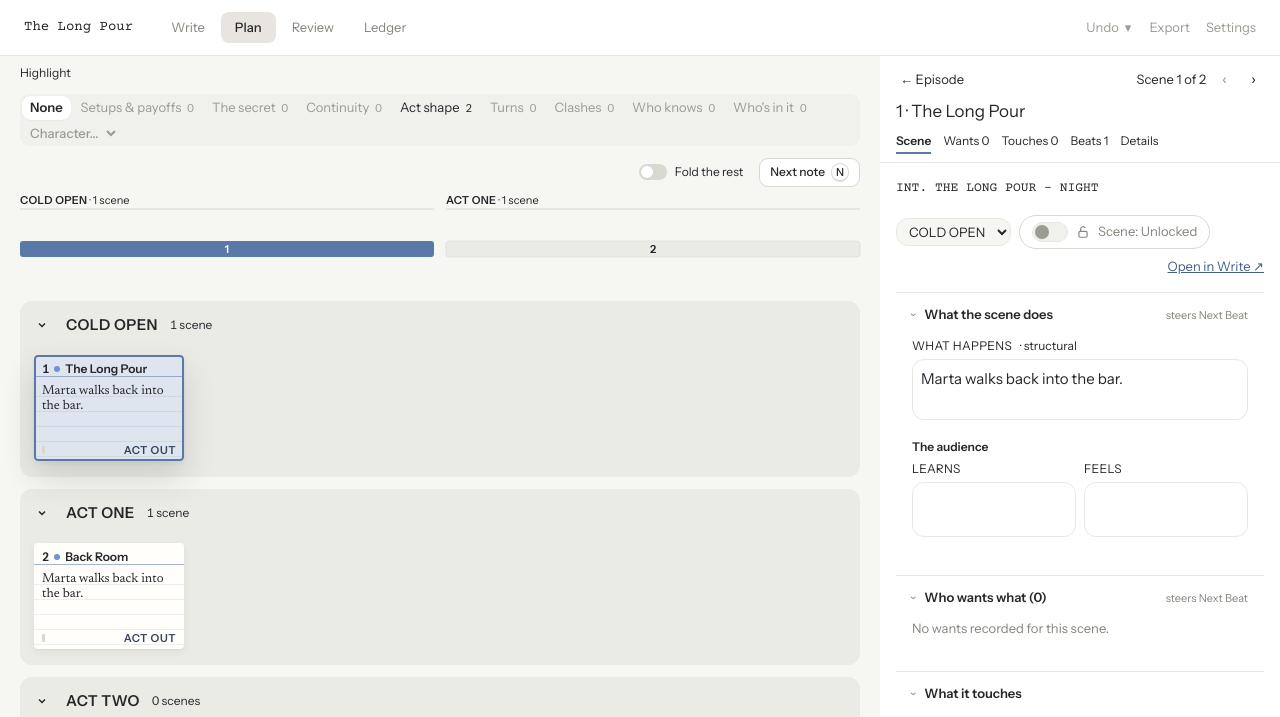
Test: PlanScreen › selecting a scene in a collapsed act opens that act
The width and height of the screenshot is (1280, 717).
Click the button named "Hide ACT ONE": (42, 513) [30,501,54,525]
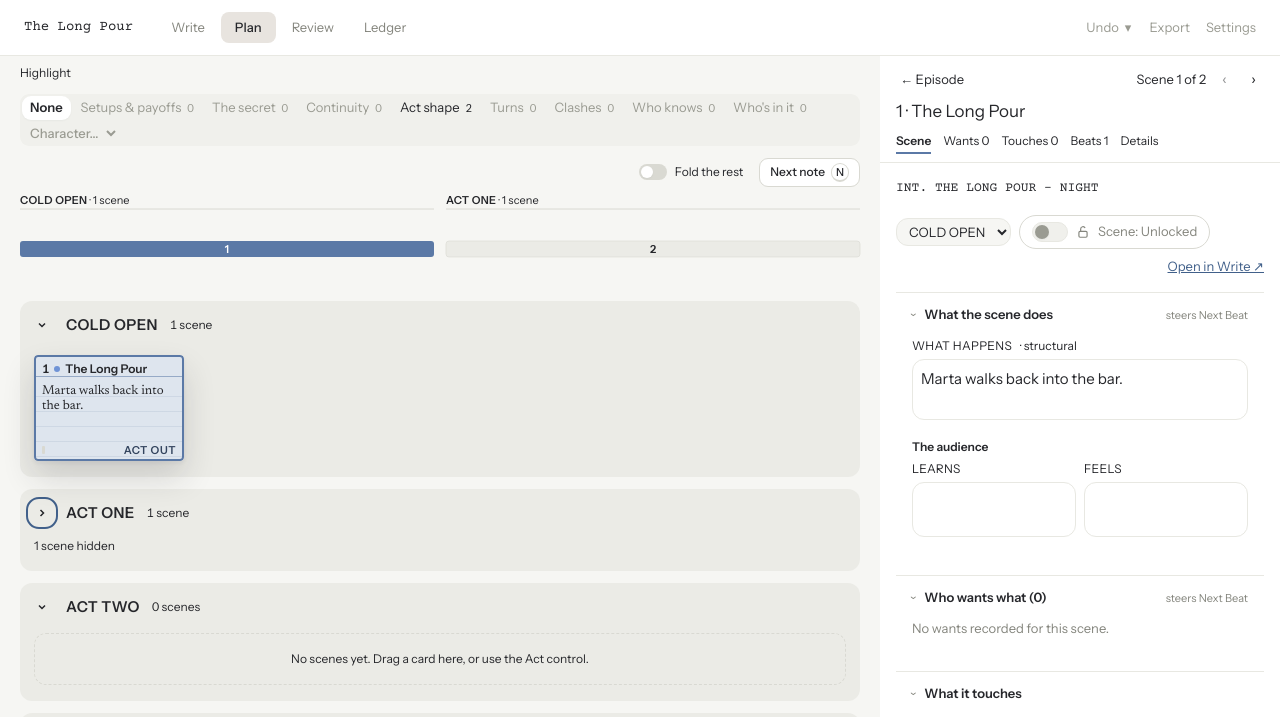
Result: the button with test id "scene-card-scene-2" is gone
Click the button named "Next scene": (1254, 79) [1243,68,1264,90]
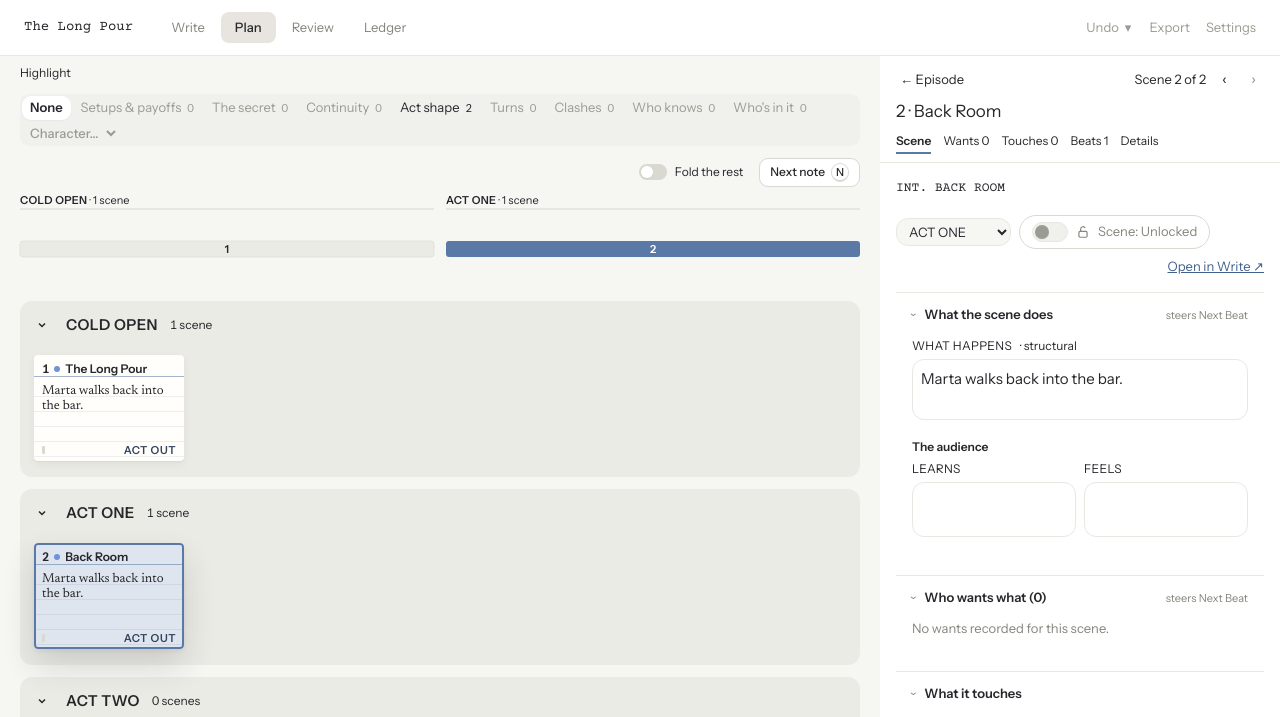
Result: the button with test id "scene-card-scene-2" is shown at [34,543,184,649]
